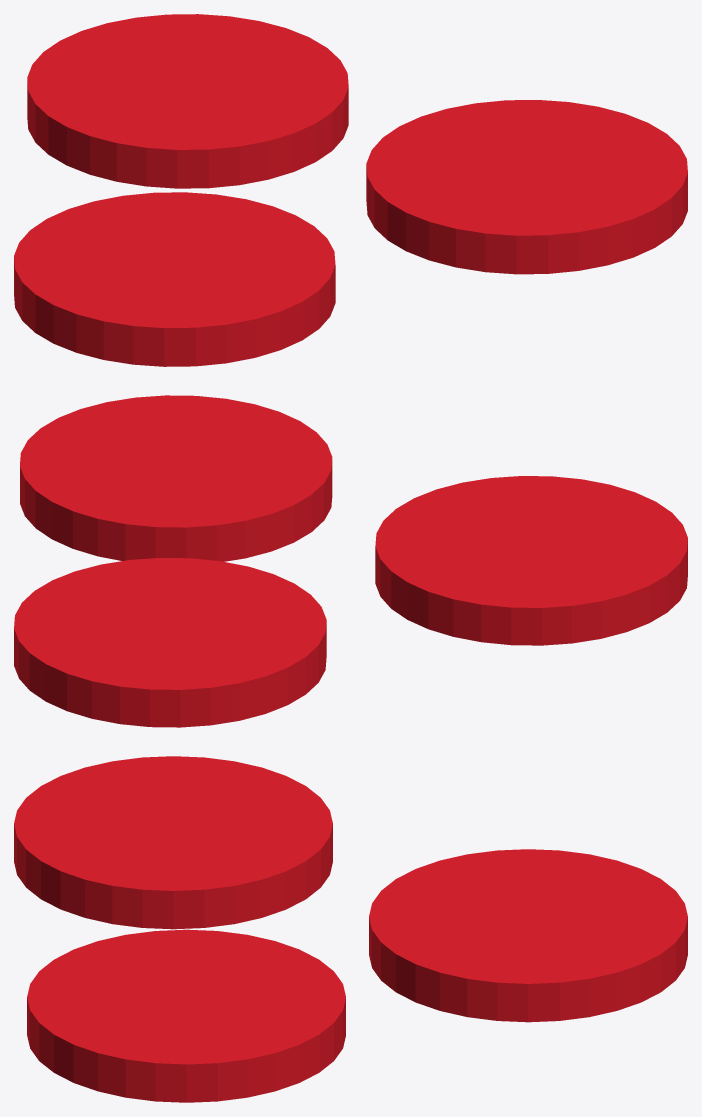
File: tomato.fbx
The picture shows the model from 3 angles, top to bottom: view 1: azimuth 30°, elevation 25°; view 2: azimuth 150°, elevation 25°; view 3: azimuth 270°, elevation 25°; orthographic projection. The views are drawn at different scales.
Parts seen in each view (by area): view 1: tomato; view 2: tomato; view 3: tomato.
Boxes of the visible parts, x1,y1,x2,y2 form: tomato: [14, 14, 687, 366]; tomato: [14, 395, 687, 727]; tomato: [14, 756, 687, 1102].
Bounding box in the file's own units: 15.92 × 0.9219 × 14.7.
